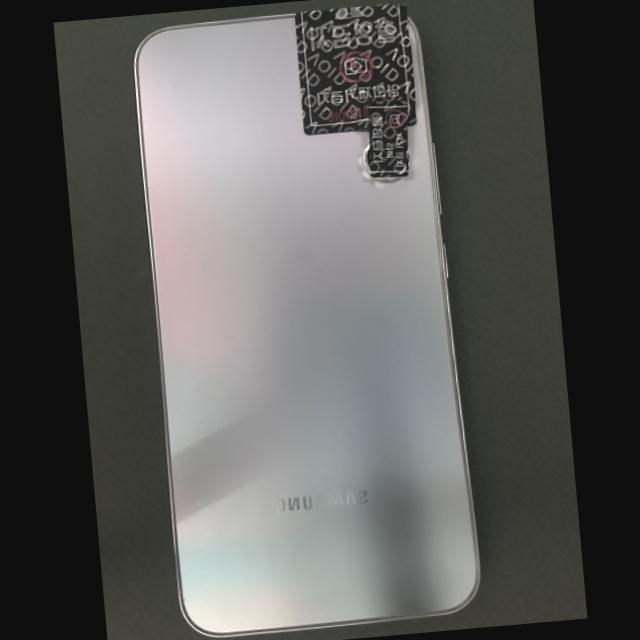lens: (364, 144, 369, 171)
phone: (133, 6, 480, 637)
sticker: (294, 4, 417, 135), (369, 99, 407, 178)
